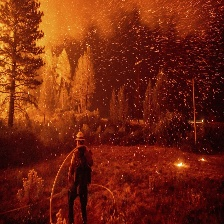smoke: (28, 1, 207, 38)
